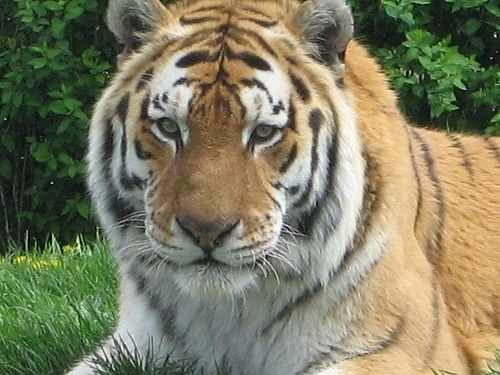tigre: (69, 1, 498, 373)
